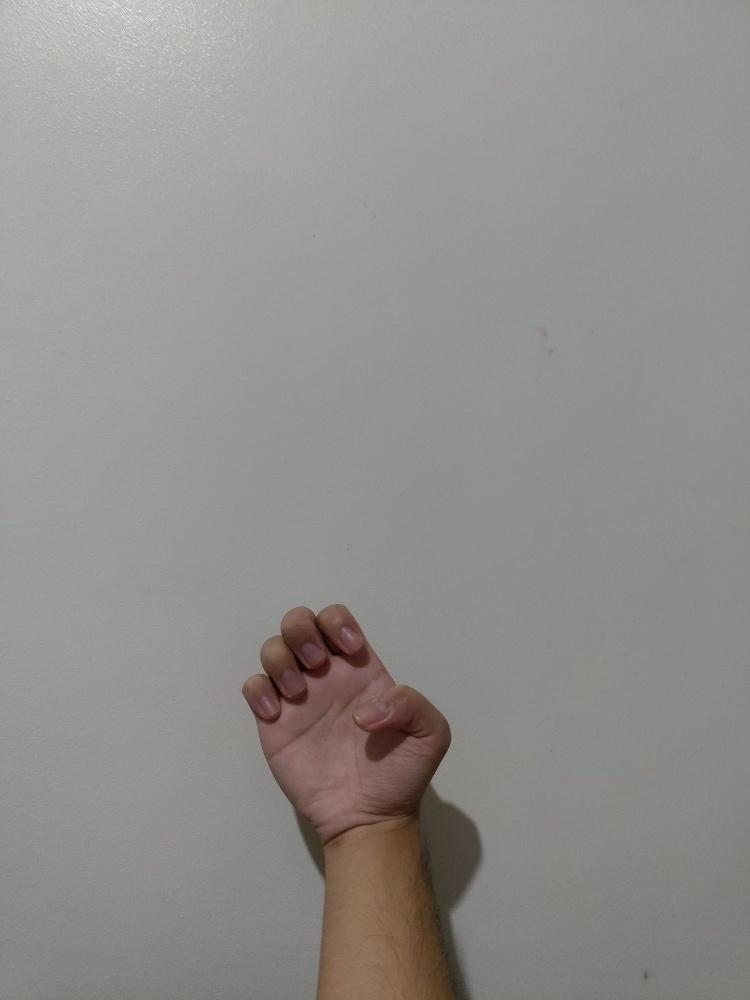e: (239, 598, 453, 846)
